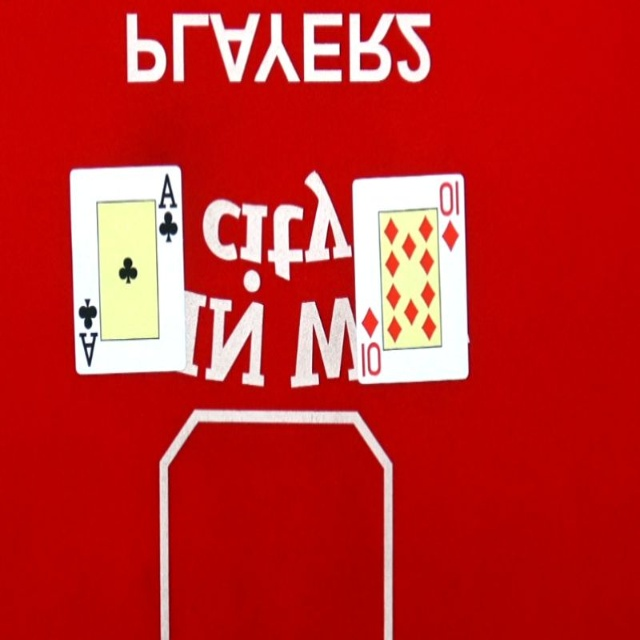10D: (357, 305, 383, 382), (440, 178, 466, 255)
AC: (156, 171, 182, 246), (76, 292, 100, 369)
